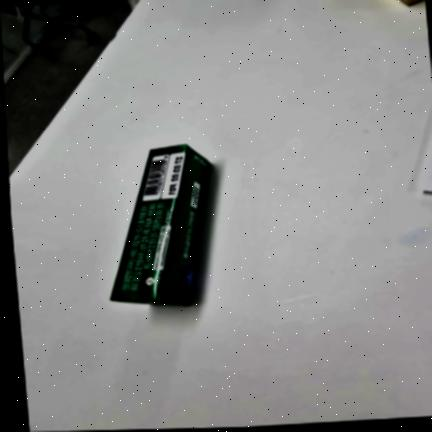gum_green: (111, 145, 211, 305)
